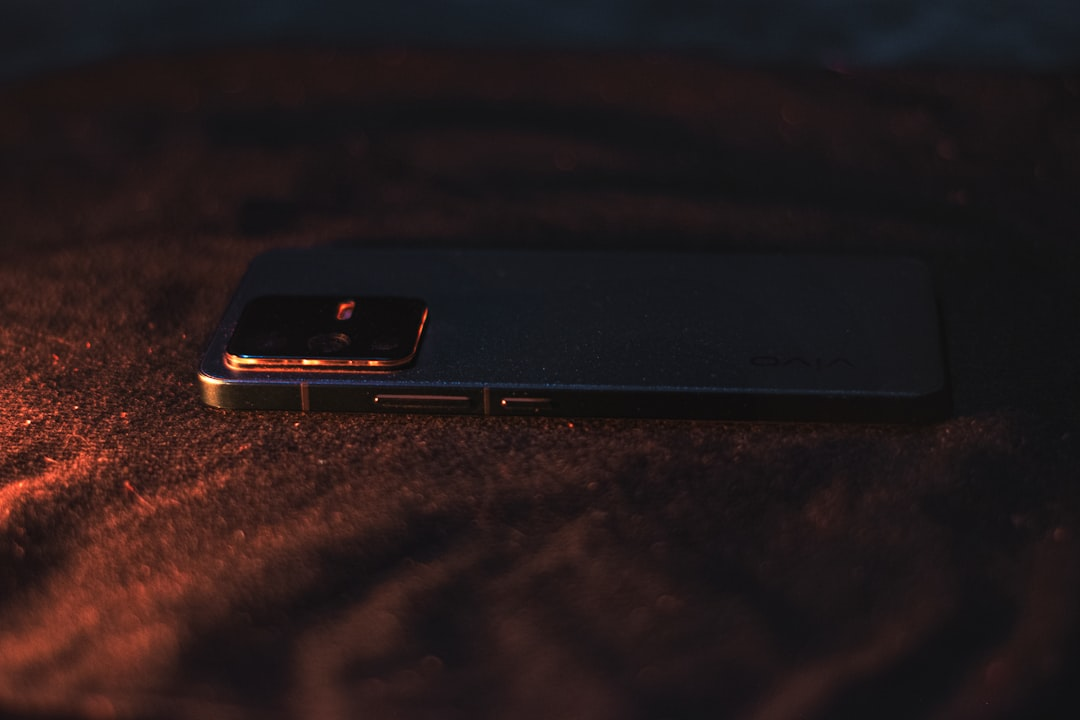phone: (199, 243, 950, 419)
